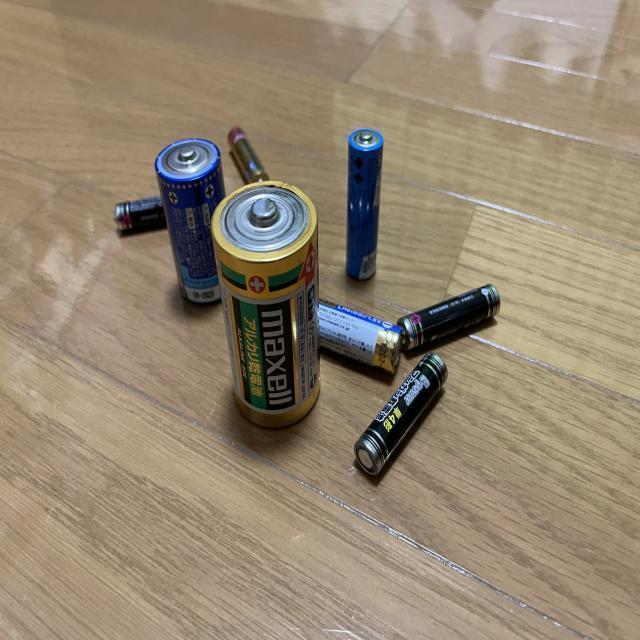battery: (210, 180, 326, 435), (153, 136, 236, 312), (350, 348, 451, 482), (307, 292, 405, 375), (395, 284, 503, 353), (344, 126, 388, 284), (230, 119, 269, 193), (115, 191, 171, 241)
